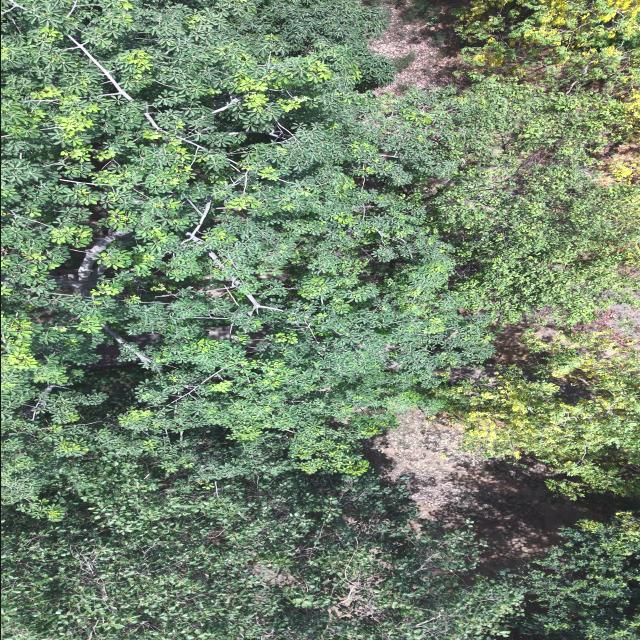DRY_AREA: (369, 409, 638, 573), (369, 409, 637, 572), (370, 409, 628, 573), (369, 0, 467, 94)
VEGETATION_TREE: (1, 0, 639, 639), (3, 0, 638, 504), (3, 0, 492, 503), (1, 468, 639, 639), (3, 469, 523, 639), (439, 332, 639, 497), (513, 511, 639, 639)
